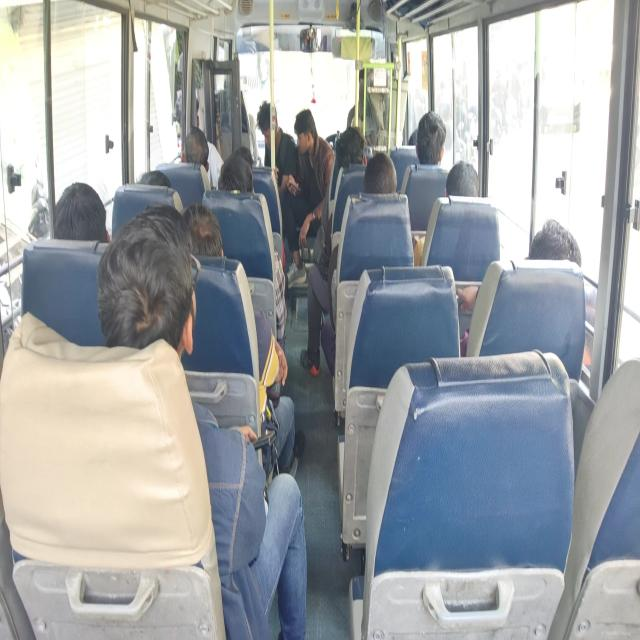person: (110, 229, 192, 344), (519, 202, 584, 271), (54, 176, 114, 233), (178, 130, 219, 182), (185, 204, 227, 253), (367, 154, 409, 196), (421, 112, 449, 170), (256, 100, 283, 146), (449, 157, 480, 197), (137, 171, 174, 202), (219, 167, 252, 199), (421, 111, 442, 160), (294, 118, 318, 156), (336, 131, 362, 165), (231, 144, 262, 170), (406, 129, 422, 152)
